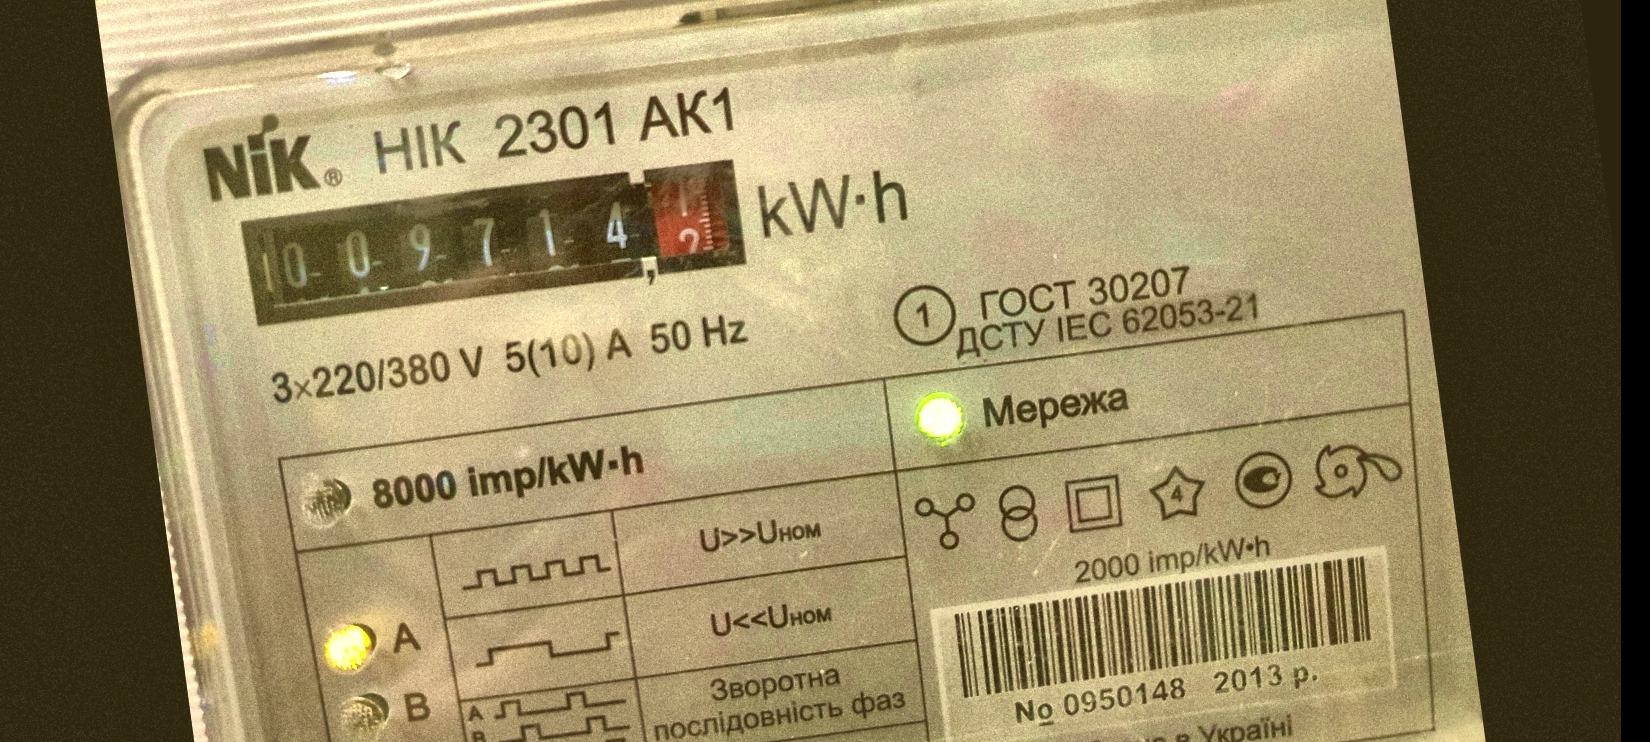0: (276, 236, 311, 293), (339, 224, 373, 280)
1: (532, 202, 562, 259), (671, 175, 691, 219)
2: (675, 222, 702, 255)
4: (597, 196, 632, 254)
7: (469, 213, 501, 269)
9: (401, 218, 436, 274)
screen: (223, 138, 765, 349)
